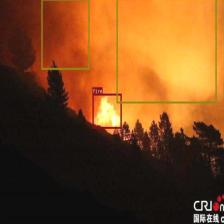fire: (92, 93, 122, 128)
smoke: (116, 0, 216, 103), (41, 0, 89, 69)
